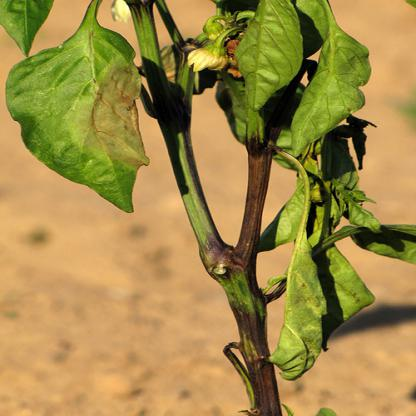bell pepper leaf spot: (6, 22, 147, 219), (276, 204, 383, 379)
